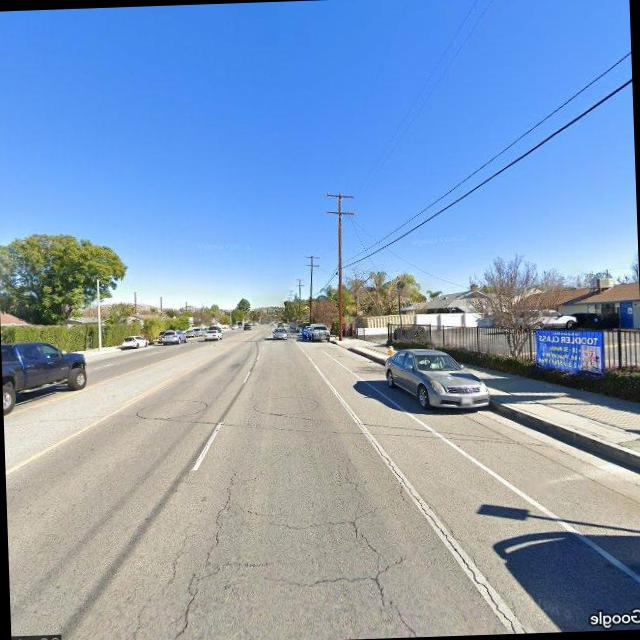crack: (120, 458, 434, 640)
pothole: (368, 422, 515, 632)
